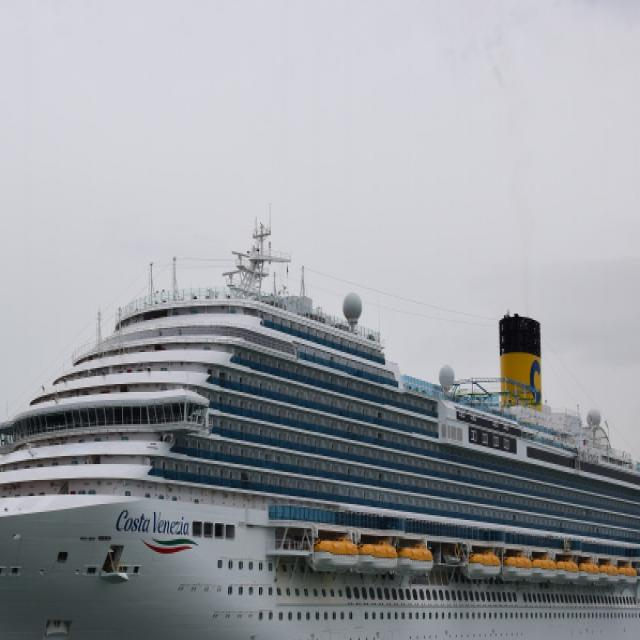cruises: (1, 225, 640, 640)
